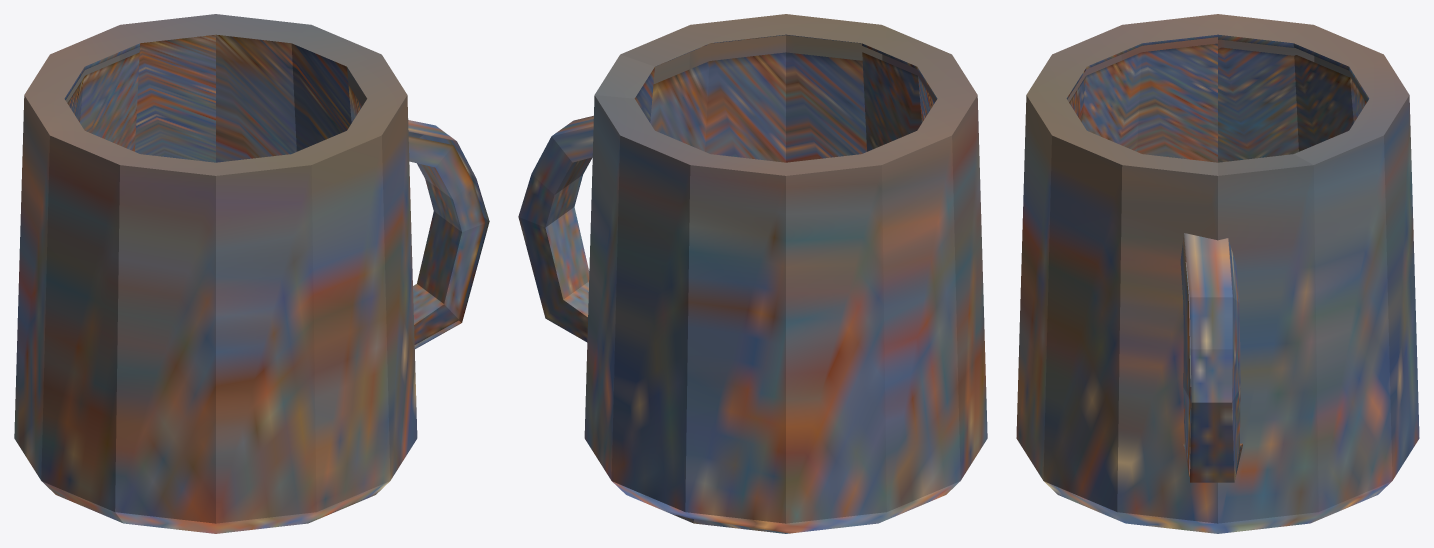
File: лоу поли кружка лучше.fbx
The picture shows the model from 3 angles, left to right: view 1: azimuth 30°, elevation 25°; view 2: azimuth 150°, elevation 25°; view 3: azimuth 270°, elevation 25°; orthographic projection.
Parts seen in each view (by area): view 1: Torus, Torus.001, Torus.002; view 2: Torus, Torus.001, Torus.002; view 3: Torus, Torus.001, Torus.002.
Part boxes in pixels (x1,y1,x2,y2): Torus: [14, 14, 417, 533]; Torus.001: [64, 34, 367, 162]; Torus.002: [408, 120, 489, 349]; Torus: [584, 14, 987, 533]; Torus.001: [634, 34, 937, 533]; Torus.002: [518, 115, 593, 342]; Torus: [1016, 14, 1419, 533]; Torus.001: [1066, 34, 1369, 162]; Torus.002: [1180, 233, 1242, 482].
Size of what is drawn, in the model's own units: 14.46 by 11.46 by 11.6.
Materials: 2 (2 with a texture image).
